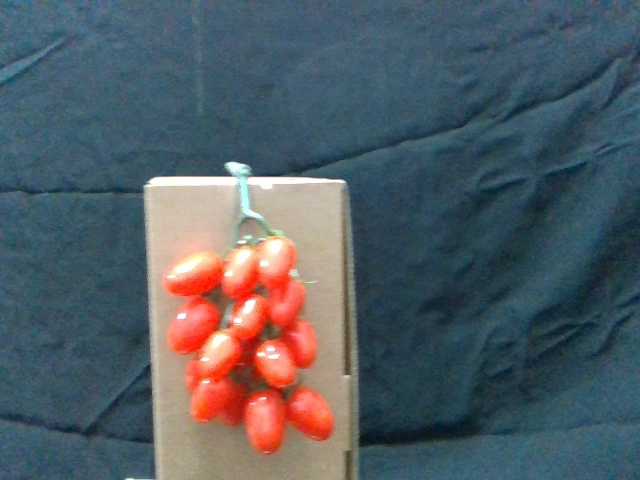tomato: (166, 298, 221, 354), (246, 389, 288, 457), (288, 386, 335, 442), (168, 253, 224, 299), (252, 338, 300, 391), (197, 331, 246, 378), (223, 247, 263, 301), (281, 316, 320, 369), (259, 237, 301, 286), (227, 297, 269, 346), (191, 377, 231, 428), (266, 280, 307, 327)
